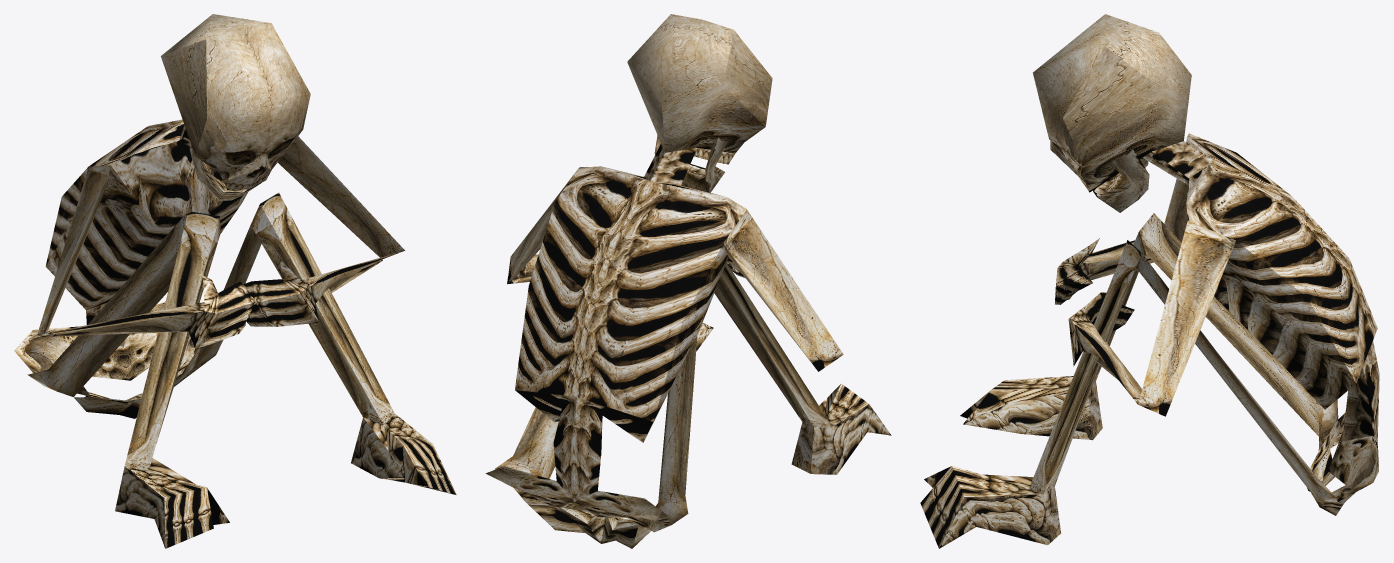
Rendered from mm9_deco_skeletonsitting.glb.
3 views of the same model, side by side, from view 1: azimuth 30°, elevation 25°; view 2: azimuth 150°, elevation 25°; view 3: azimuth 270°, elevation 25° (orthographic). The views are drawn at different scales.
Visible parts, largest first — view 1: Skeletonsitting; view 2: Skeletonsitting; view 3: Skeletonsitting.
Part boxes in pixels (x1,y1,x2,y2): Skeletonsitting: (14,14,456,548); Skeletonsitting: (485,14,891,548); Skeletonsitting: (920,14,1379,548).
Size of the model in its own units: 0.8124 by 1.02 by 0.8834.
Materials: 2 (2 with a texture image).
